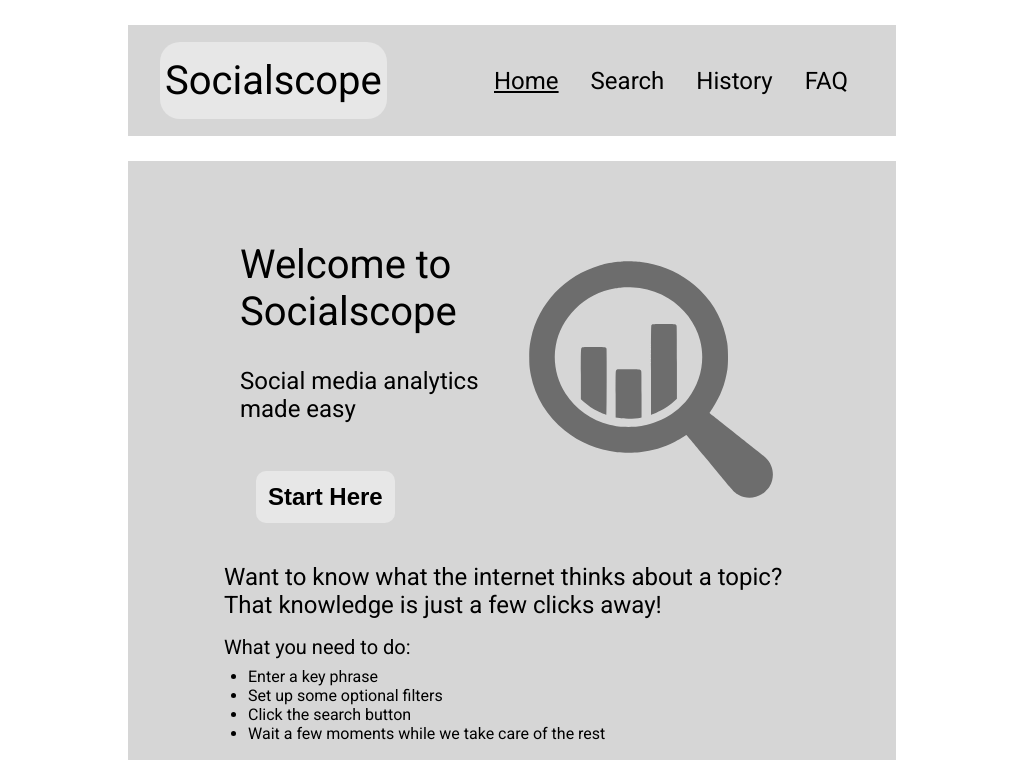
example to-do app › check History page
Click the link "History" at point(734, 81), box x1=696 y1=67 x2=772 y2=95
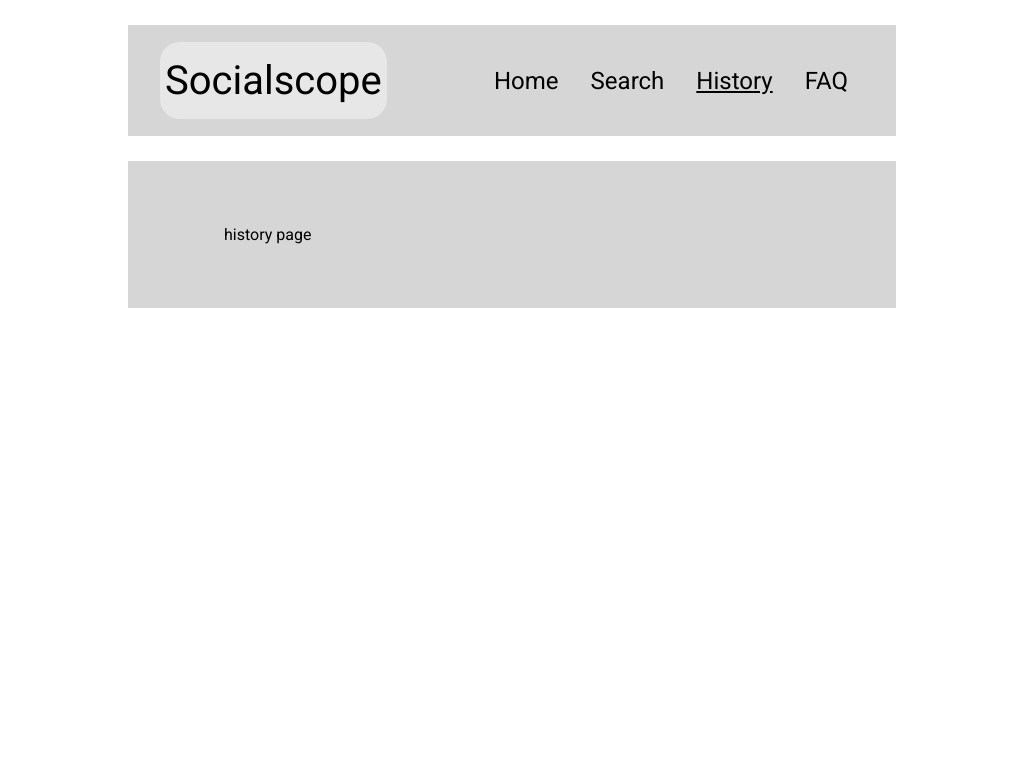
expect the text "history page" is shown: met, box x1=224 y1=225 x2=311 y2=244
